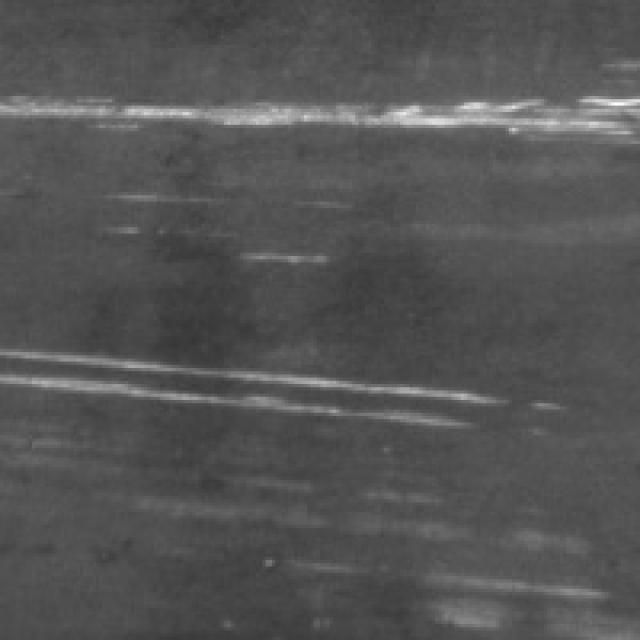scratches: (0, 77, 634, 157), (0, 336, 512, 432)
